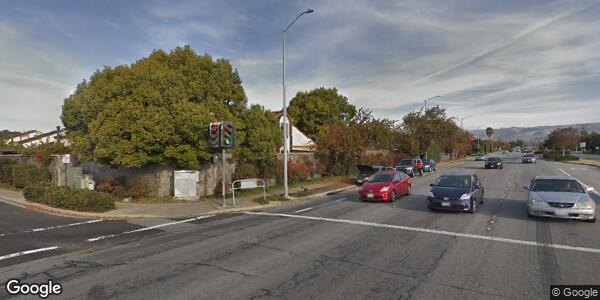Steel_Pole: (281, 7, 317, 202)
